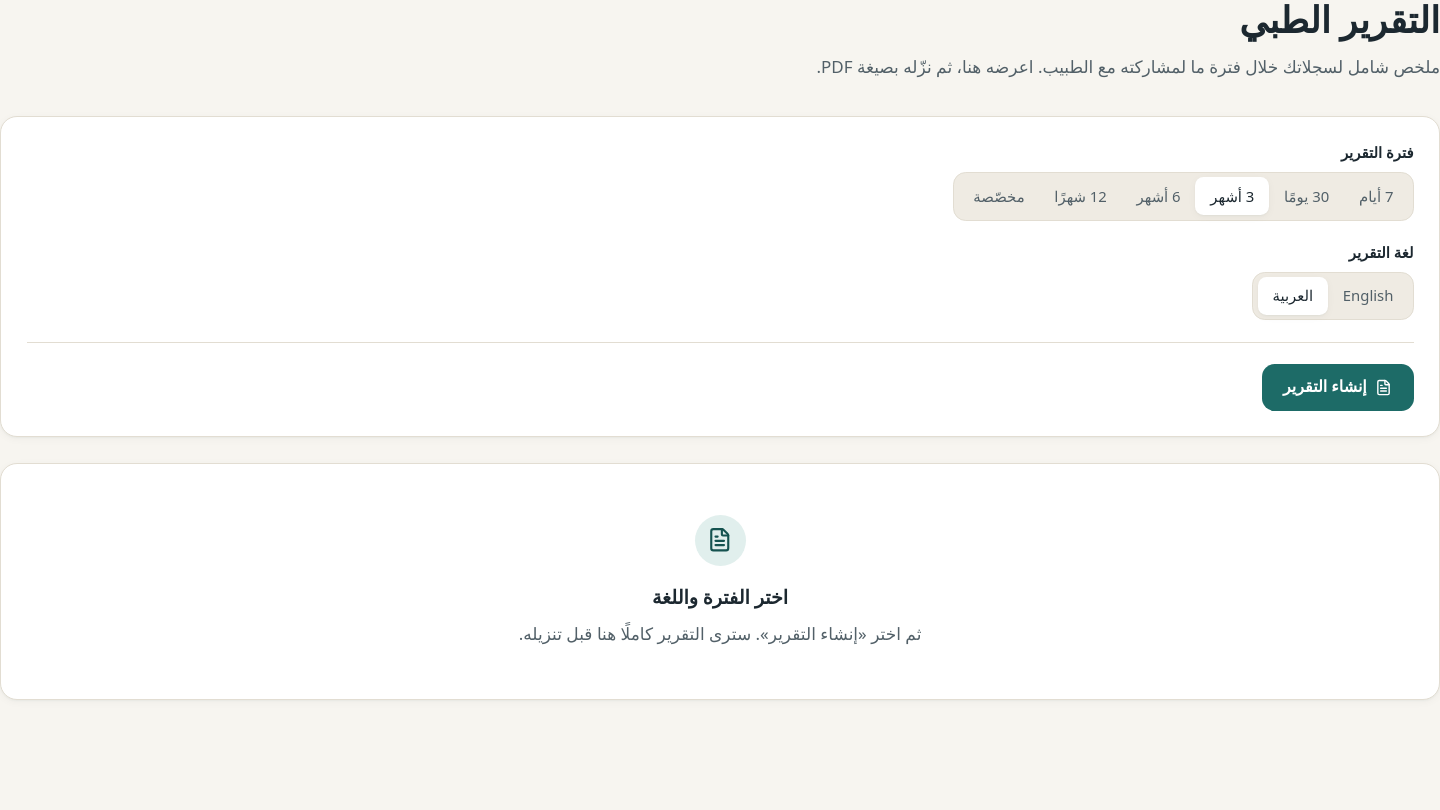
Test: MedicalReportPage › shows the Arabic interface right to left
This screenshot has width=1440, height=810.
expect the heading "التقرير الطبي" is shown: met, box [1239,1,1439,41]
Click the button "إنشاء التقرير".
click(1338, 387)  # box [1262,364,1414,411]
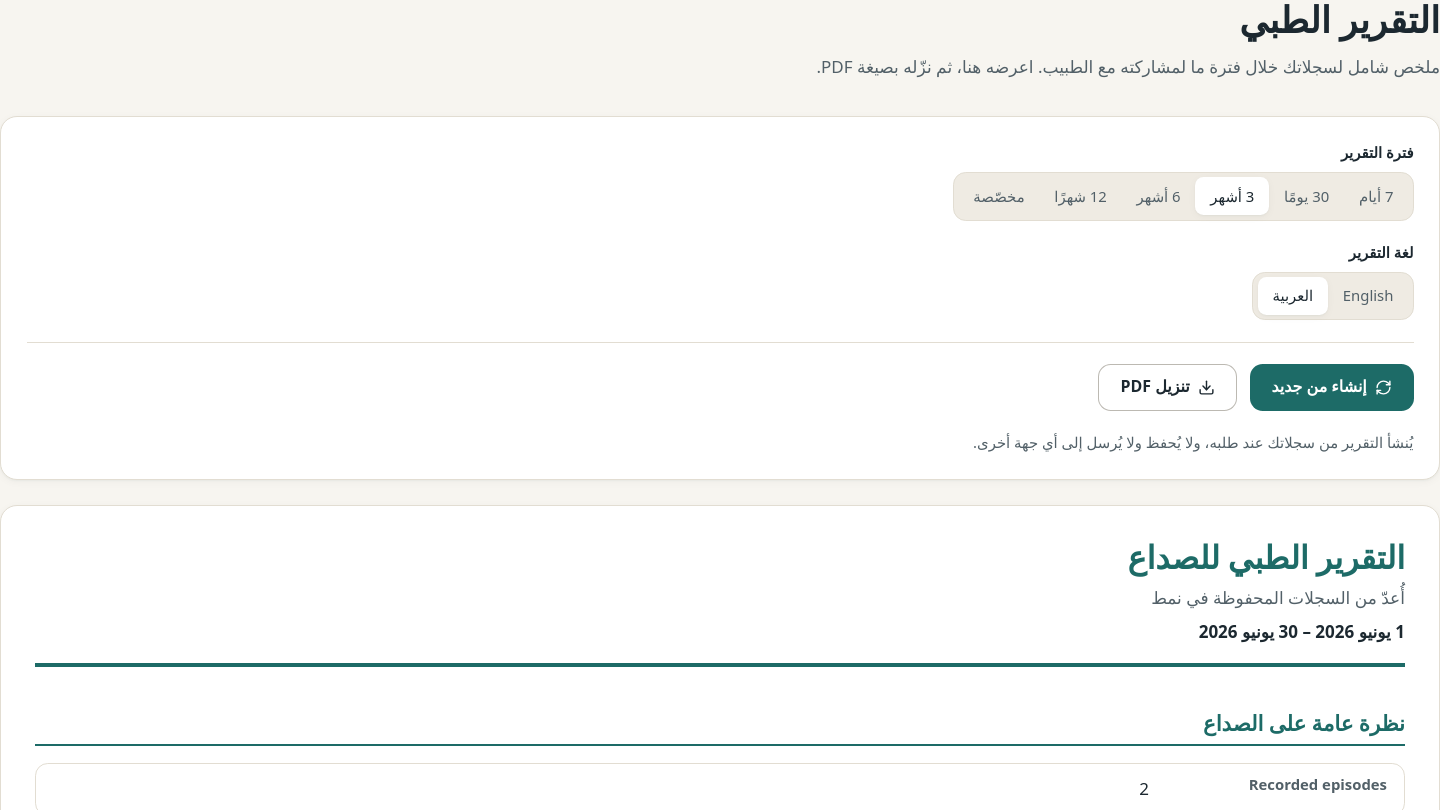
expect the heading "التقرير الطبي للصداع" is shown: met, box [1127,541,1405,576]
